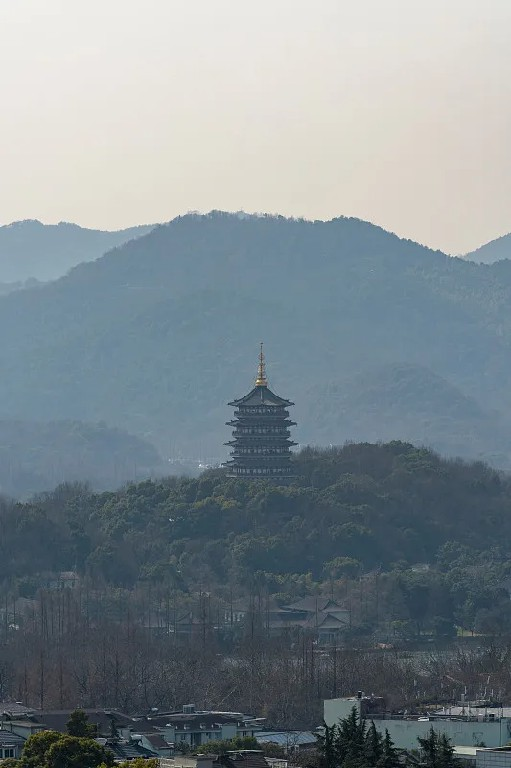Leifeng: (224, 344, 301, 482)
